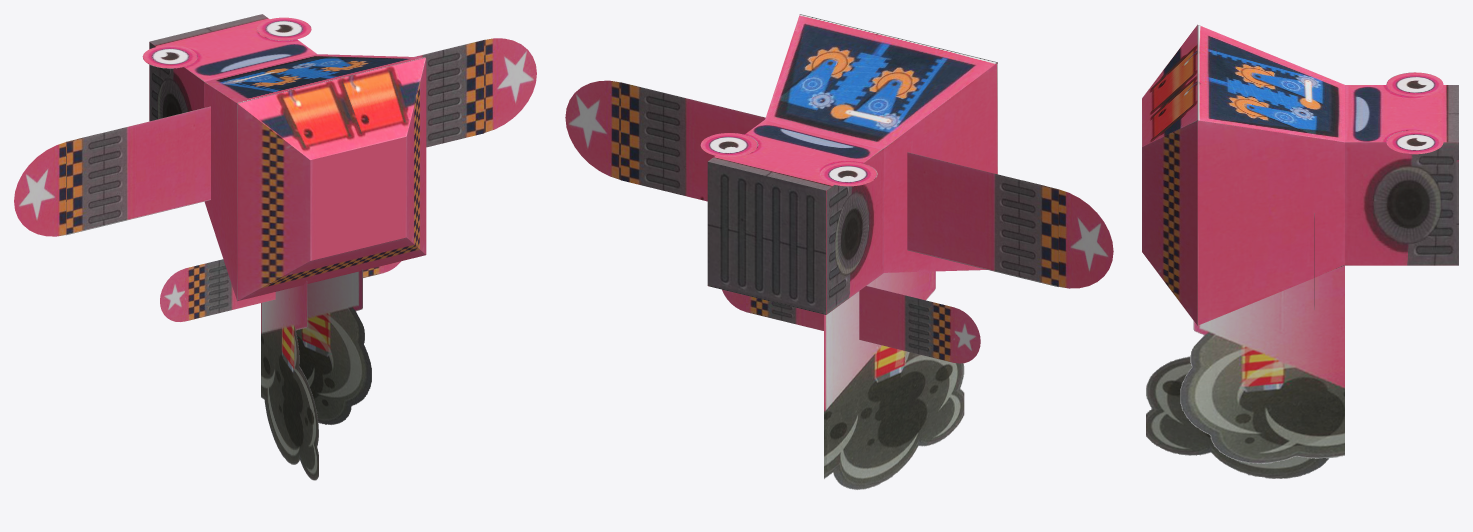
Rendered from robot3.fbx.
The picture shows the model from 3 angles, left to right: view 1: azimuth 30°, elevation 25°; view 2: azimuth 150°, elevation 25°; view 3: azimuth 270°, elevation 25°; orthographic projection. The views are drawn at different scales.
Parts seen in each view (by area): view 1: robot3; view 2: robot3; view 3: robot3.
Part boxes in pixels (<box>): robot3: <box>14,14,536,480</box>; robot3: <box>565,14,1113,489</box>; robot3: <box>1142,24,1458,478</box>.
Bounding box in the file's own units: 8.3 × 6.22 × 4.2.
Materials: 1 (1 with a texture image).
